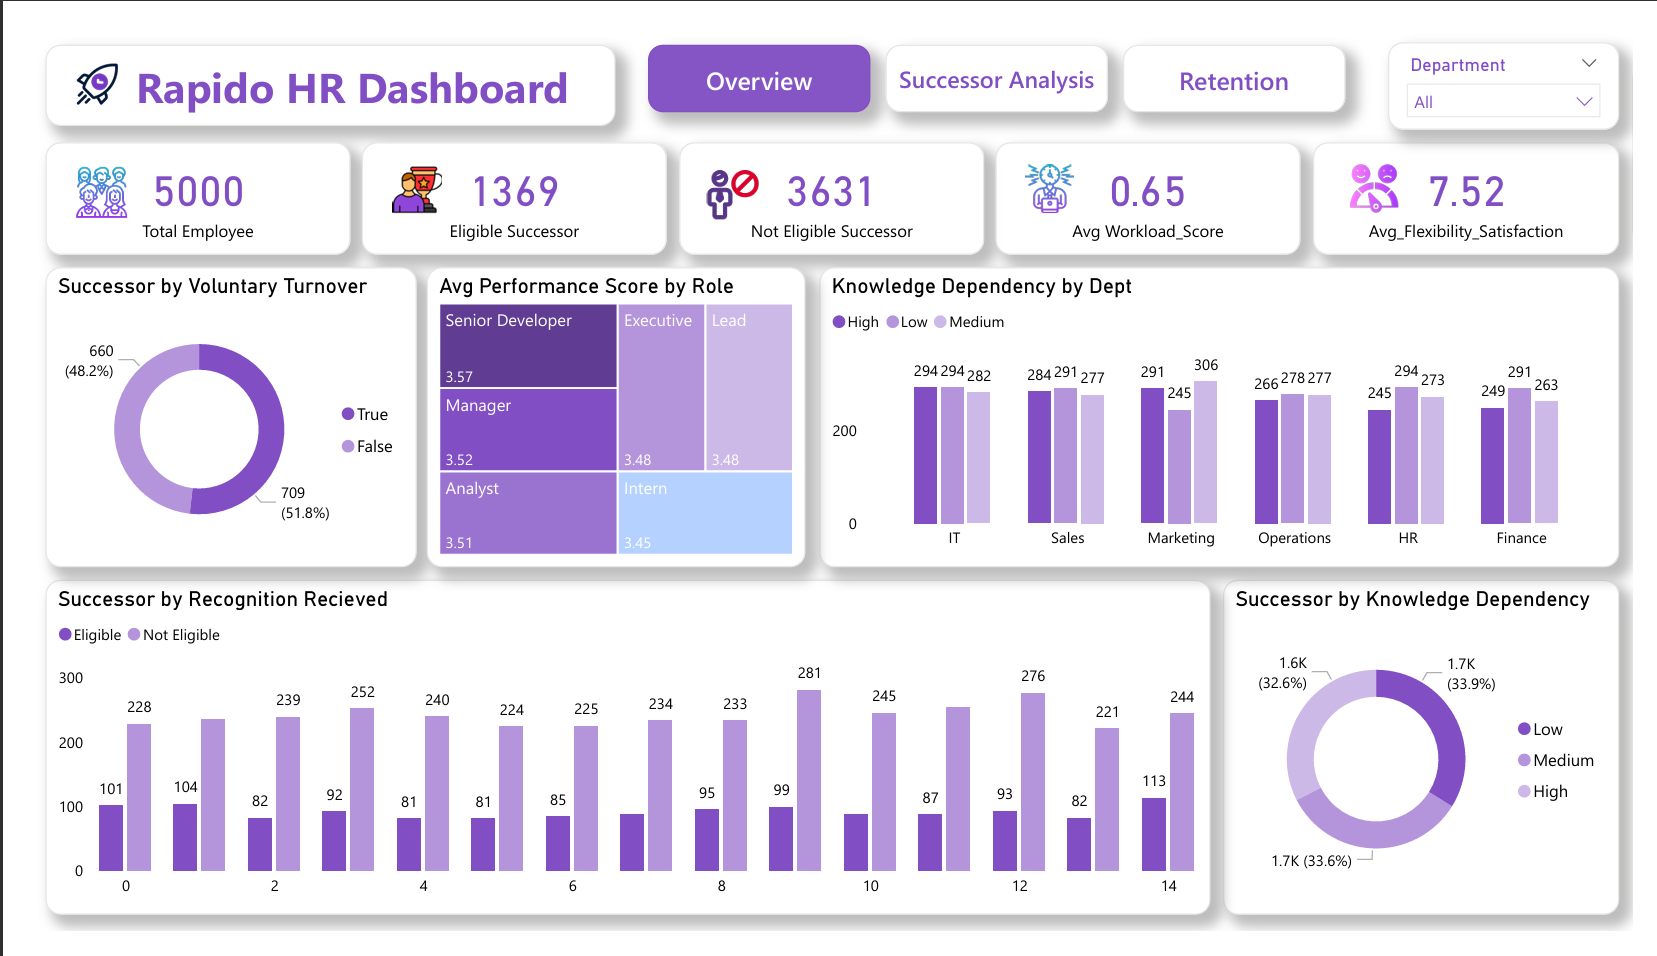

The page's visual inventory and layout, read from the dashboard file:
{"tool":"powerbi","page":{"name":"Overview","canvas":[1280,720],"ordinal":0},"visuals":[{"type":"donutChart","title":"Successor by Knowledge Dependency","fields":{"Y":["CountNonNull(Rapido DataSet.Successor)"],"Category":["Rapido DataSet.Knowledge_Dependency_Level"]},"box":[952.5,439.1,316.1,267.4],"z":0},{"type":"clusteredColumnChart","title":"Successor by Recognition Recieved","fields":{"Category":["Rapido DataSet.Recognition_Received","Rapido DataSet.Successor"],"Y":["CountNonNull(Rapido DataSet.Successor)"],"Series":["Rapido DataSet.Successor"]},"box":[10,439.1,932.5,267.4],"z":1000},{"type":"shape","box":[10,11.4,456.2,64.4],"z":2000},{"type":"card","fields":{"Values":["CountNonNull(Rapido DataSet.Employee_ID)"]},"box":[9.9,88.7,244,90],"z":3000},{"type":"card","fields":{"Values":["CountNonNull(Rapido DataSet.Successor)"]},"box":[263.4,88.7,244,90],"z":4000},{"type":"card","fields":{"Values":["CountNonNull(Rapido DataSet.Successor)"]},"box":[517,88.7,244,90],"z":5000},{"type":"card","fields":{"Values":["Avg(Rapido DataSet.Workload_Score)"]},"box":[770.5,88.7,244,90],"z":6000},{"type":"card","fields":{"Values":["Avg(Rapido DataSet.Flexibility_Satisfaction)"]},"box":[1024,88.7,244.6,90.1],"z":7000},{"type":"slicer","fields":{"Values":["Rapido DataSet.Department"]},"box":[1084.3,8.5,184.3,70.9],"z":8000},{"type":"shape","box":[491.8,11.3,178.6,53.9],"z":9000},{"type":"shape","box":[681.7,11.3,178.6,53.9],"z":10000},{"type":"shape","box":[871.7,11.3,178.6,53.9],"z":11000},{"type":"image","box":[28.3,19.8,46.8,45.4],"z":12000},{"type":"image","box":[1045.6,95.6,54.4,60],"z":13000},{"type":"clusteredColumnChart","title":"Knowledge Dependency by Dept","fields":{"Category":["Rapido DataSet.Department"],"Y":["CountNonNull(Rapido DataSet.Knowledge_Dependency_Level)"],"Series":["Rapido DataSet.Knowledge_Dependency_Level"]},"box":[629.3,188.8,639.3,240.3],"z":14000},{"type":"donutChart","title":"Successor by Voluntary Turnover","fields":{"Category":["Rapido DataSet.Voluntary_Turnover"],"Y":["CountNonNull(Rapido DataSet.Successor)"]},"box":[10,188.8,297.5,240.3],"z":15000},{"type":"treemap","title":"Avg Performance Score by Role","fields":{"Group":["Rapido DataSet.Role_Title"],"Values":["Avg(Rapido DataSet.Performance_Score)"]},"box":[314.6,188.8,303.2,240.3],"z":16000},{"type":"image","box":[28.2,102.7,52.7,52.7],"z":17000},{"type":"image","box":[282.5,99.2,50,55],"z":18000},{"type":"image","box":[532.7,104.5,54.5,52.7],"z":19000},{"type":"image","box":[788.2,101.8,50,49.1],"z":20000}]}

Visuals, with their boxes in screenshot pixels (x1, y1, x2, y2), scaled from the page's 1280x720 canvas onto the 1657x956 screenshot:
"Successor by Knowledge Dependency" donutChart: x1=1233 y1=583 x2=1642 y2=938
"Successor by Recognition Recieved" clusteredColumnChart: x1=13 y1=583 x2=1220 y2=938
shape: x1=13 y1=15 x2=604 y2=101
card - CountNonNull(Rapido DataSet.Employee_ID): x1=13 y1=118 x2=329 y2=237
card - CountNonNull(Rapido DataSet.Successor): x1=341 y1=118 x2=657 y2=237
card - CountNonNull(Rapido DataSet.Successor): x1=669 y1=118 x2=985 y2=237
card - Avg(Rapido DataSet.Workload_Score): x1=997 y1=118 x2=1313 y2=237
card - Avg(Rapido DataSet.Flexibility_Satisfaction): x1=1326 y1=118 x2=1642 y2=237
slicer - Rapido DataSet.Department: x1=1404 y1=11 x2=1642 y2=105
shape: x1=637 y1=15 x2=868 y2=87
shape: x1=882 y1=15 x2=1114 y2=87
shape: x1=1128 y1=15 x2=1360 y2=87
image: x1=37 y1=26 x2=97 y2=87
image: x1=1354 y1=127 x2=1424 y2=207
"Knowledge Dependency by Dept" clusteredColumnChart: x1=815 y1=251 x2=1642 y2=570
"Successor by Voluntary Turnover" donutChart: x1=13 y1=251 x2=398 y2=570
"Avg Performance Score by Role" treemap: x1=407 y1=251 x2=800 y2=570
image: x1=37 y1=136 x2=105 y2=206
image: x1=366 y1=132 x2=430 y2=205
image: x1=690 y1=139 x2=760 y2=209
image: x1=1020 y1=135 x2=1085 y2=200
